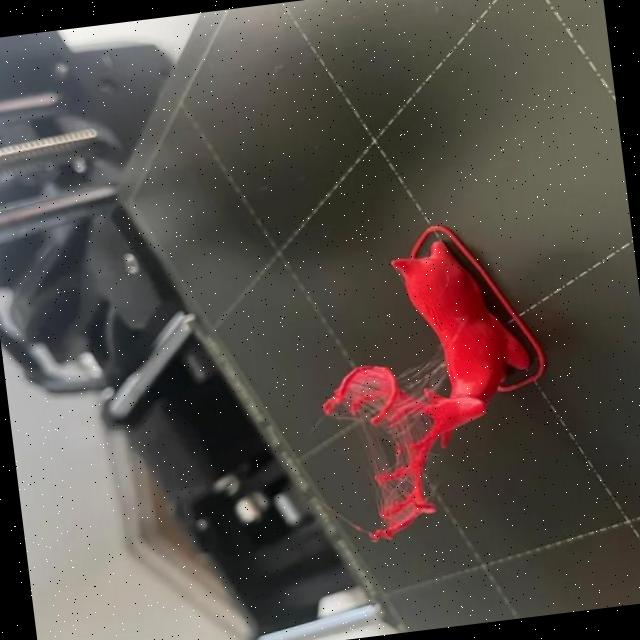stringing: (400, 356, 445, 396), (360, 421, 388, 470), (394, 409, 428, 448), (346, 369, 386, 401), (379, 476, 413, 507)
